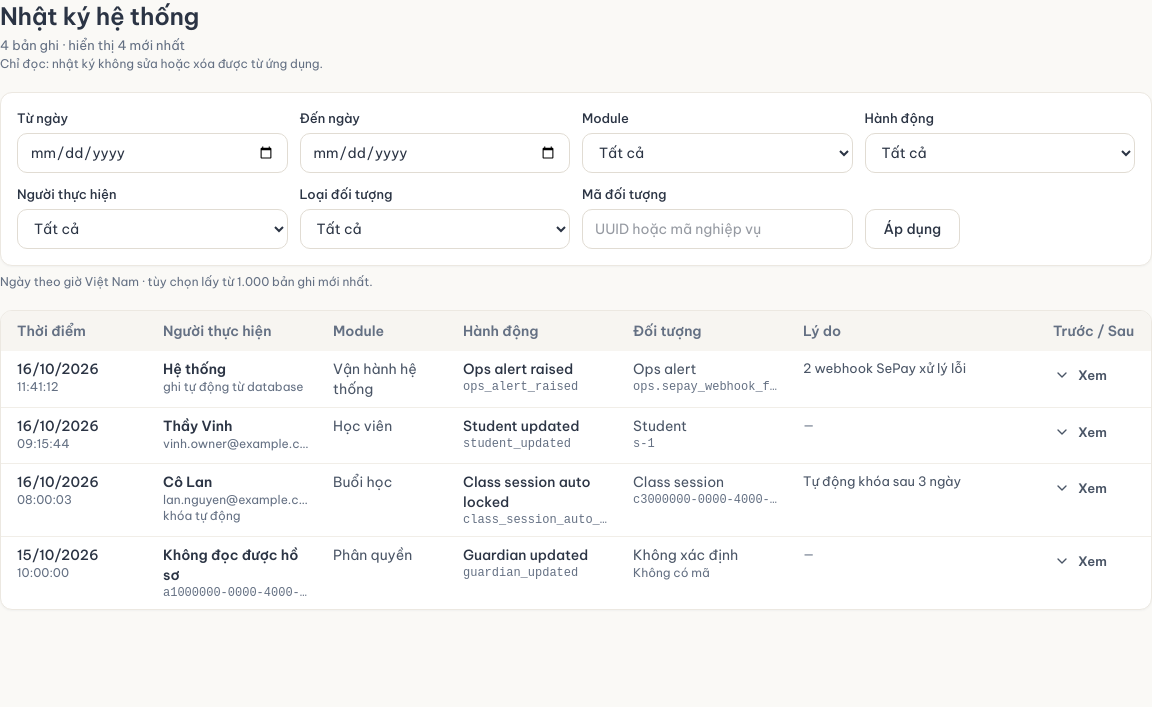
AuditLogPage table › keeps the before/after JSON out of the table until 'Xem', then prints it verbatim
Click the button named "Xem dữ liệu trước / sau của Student updated lúc 09:15:44 16/10/2026": (1080, 432) [1041, 416, 1120, 448]
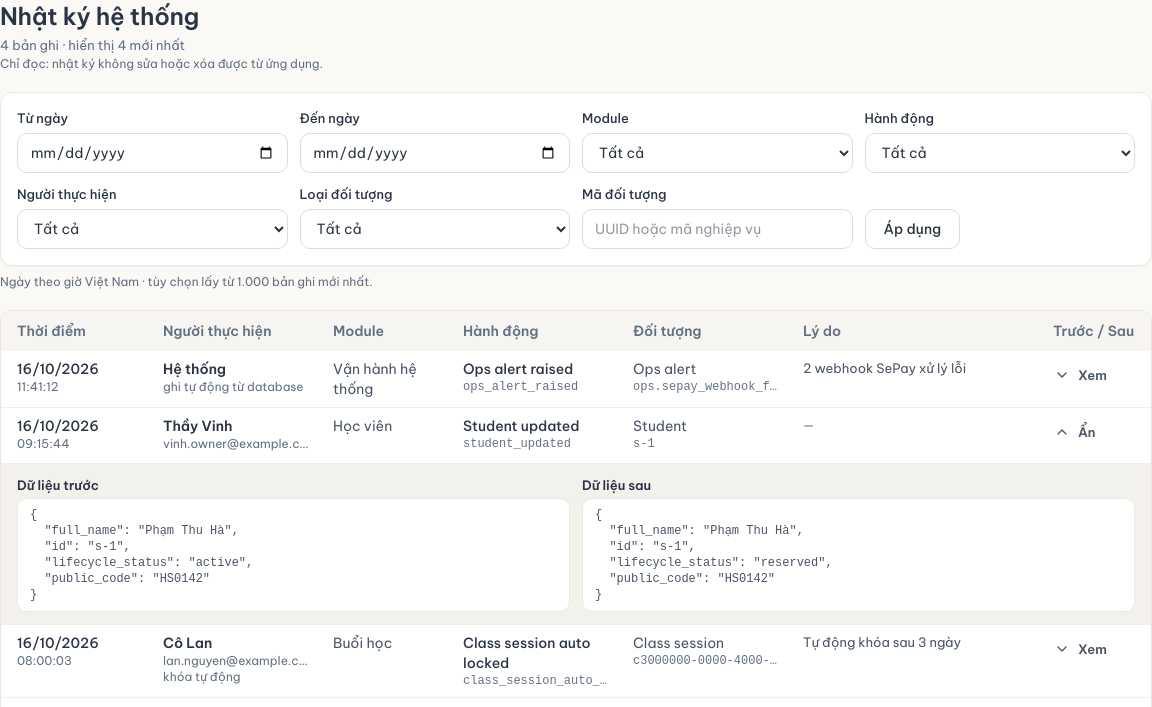
Expected: the button named "Xem dữ liệu trước / sau của Student updated lúc 09:15:44 16/10/2026" is expanded
Expected: the text "Dữ liệu trước" is shown, [17, 477, 99, 493]
Expected: the text "Dữ liệu sau" is shown, [582, 477, 651, 493]
Click the button named "Xem dữ liệu trước / sau của Student updated lúc 09:15:44 16/10/2026": (1075, 432) [1041, 416, 1108, 448]
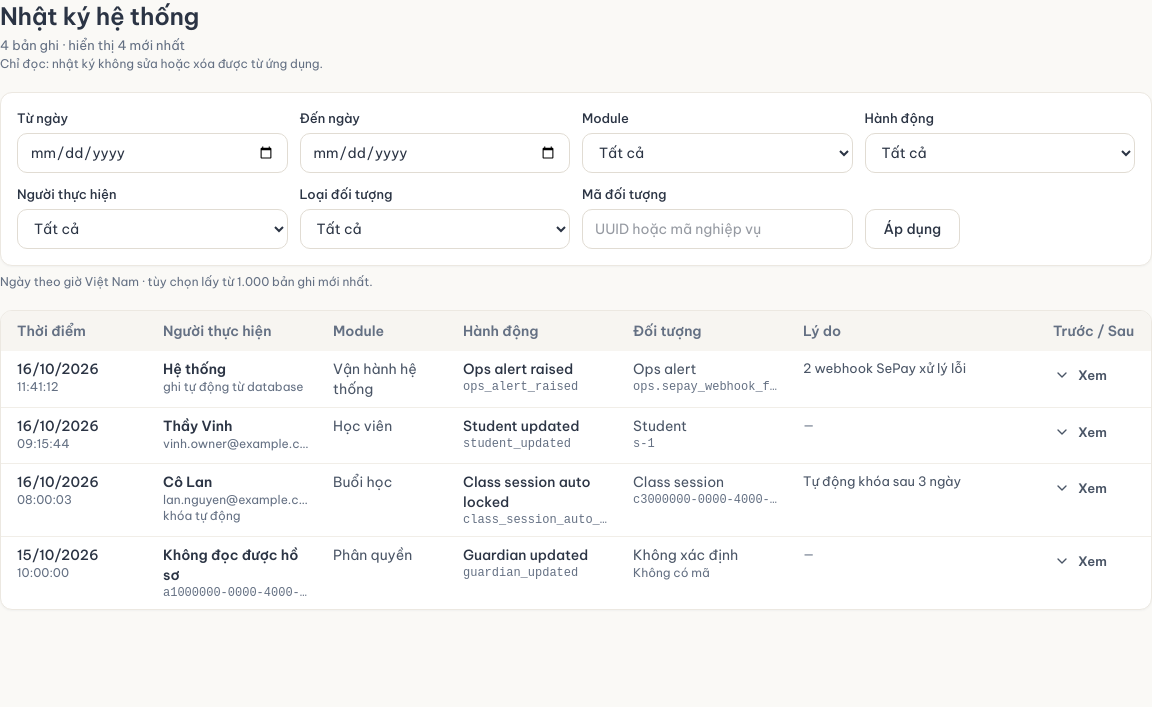
Expected: the button named "Xem dữ liệu trước / sau của Student updated lúc 09:15:44 16/10/2026" is collapsed, [1041, 416, 1120, 448]
